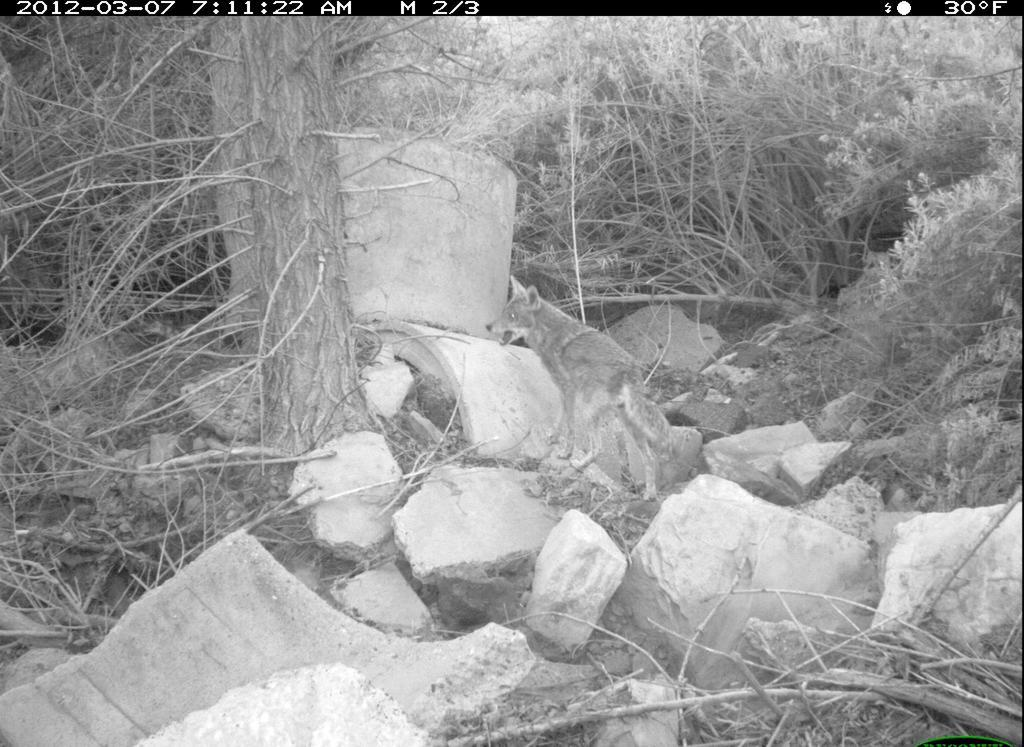coyote: (484, 269, 684, 502)
